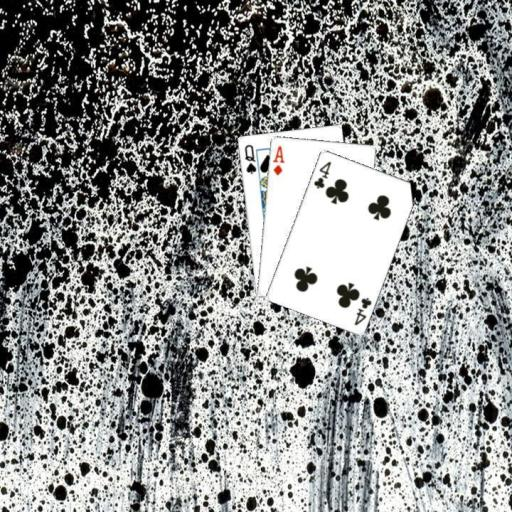card-corner: (351, 294, 373, 326), (311, 158, 332, 190), (269, 142, 286, 176), (241, 141, 257, 175)
